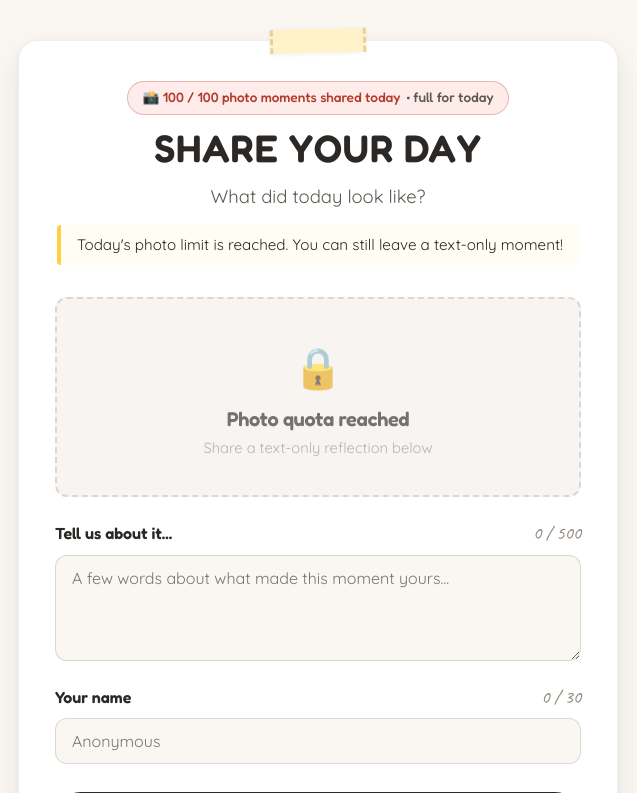
Test: ShareDayPage › disables photo picker when photo quota is 0, but allows text-only post
Expected: the heading "Photo quota reached" is shown, [227,407,409,431]
Expected: the text "Today's photo limit is reached. You can still leave a text-only moment!" is shown, [77,235,563,254]
Type "Text only at quota" into the text box with placeholder "A few words about what made this moment yours..." at (318, 608), box [55,555,581,661]
(page scrolled)
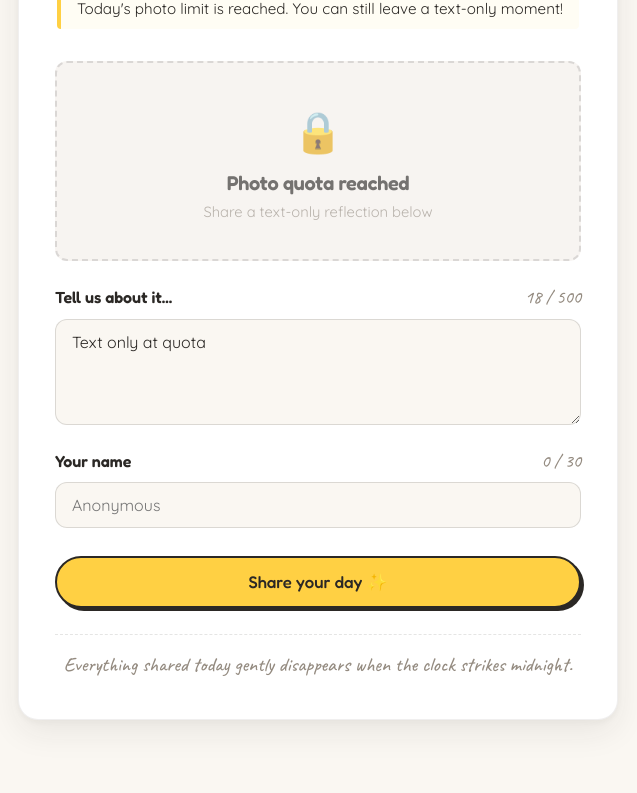
Click the button "Share your day ✨" at (318, 582), box [55,556,581,608]
(page scrolled)
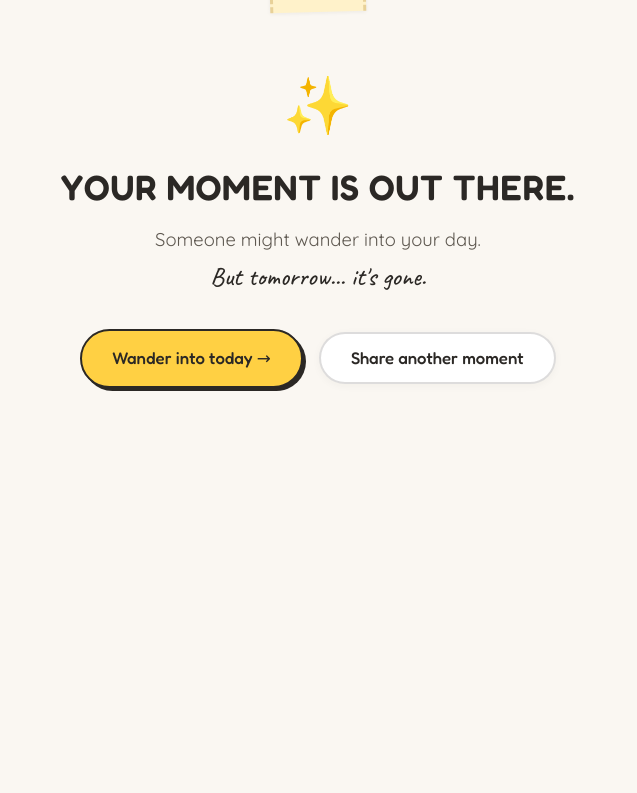
Result: the heading "YOUR MOMENT IS OUT THERE." is shown at [61,166,575,208]
